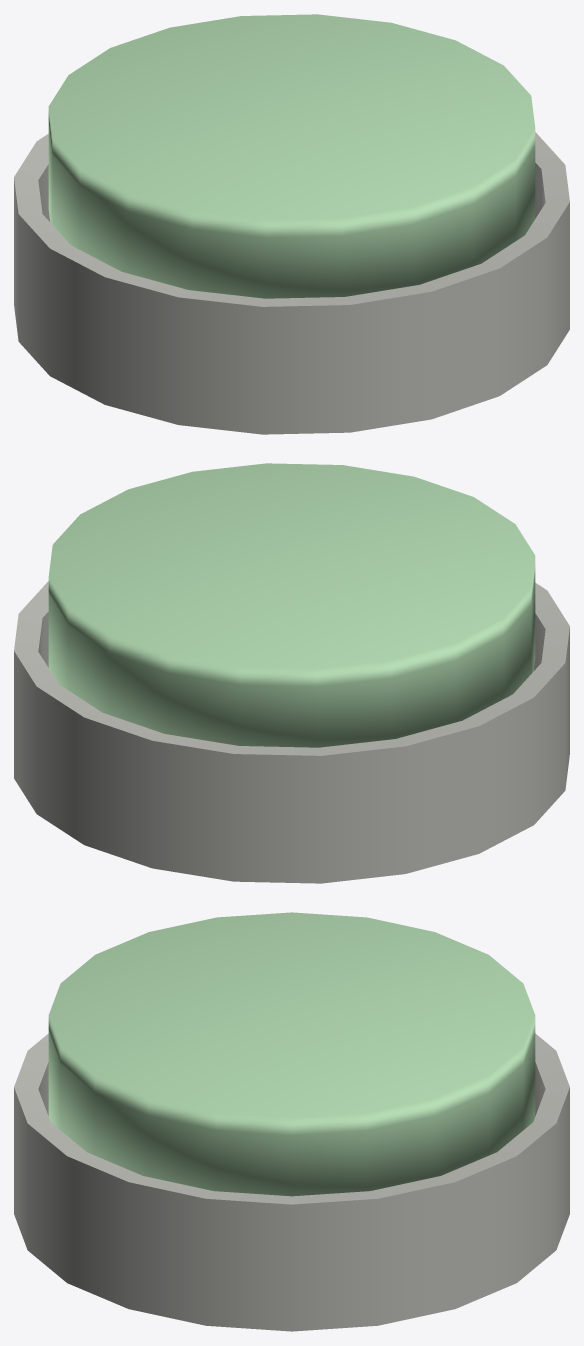
Rendered from fifthButton.fbx.
The picture shows the model from 3 angles, top to bottom: view 1: azimuth 30°, elevation 25°; view 2: azimuth 150°, elevation 25°; view 3: azimuth 270°, elevation 25°; orthographic projection.
Visible parts, largest first — view 1: pCylinder9, pCylinder10; view 2: pCylinder9, pCylinder10; view 3: pCylinder9, pCylinder10.
Boxes of the visible parts, <box> form: pCylinder9: <box>48,14,535,298</box>; pCylinder10: <box>14,132,569,434</box>; pCylinder9: <box>48,463,535,747</box>; pCylinder10: <box>14,581,569,883</box>; pCylinder9: <box>48,912,535,1196</box>; pCylinder10: <box>14,1033,569,1331</box>.
Bounding box in the file's own units: 13.51 × 5.33 × 13.51.
